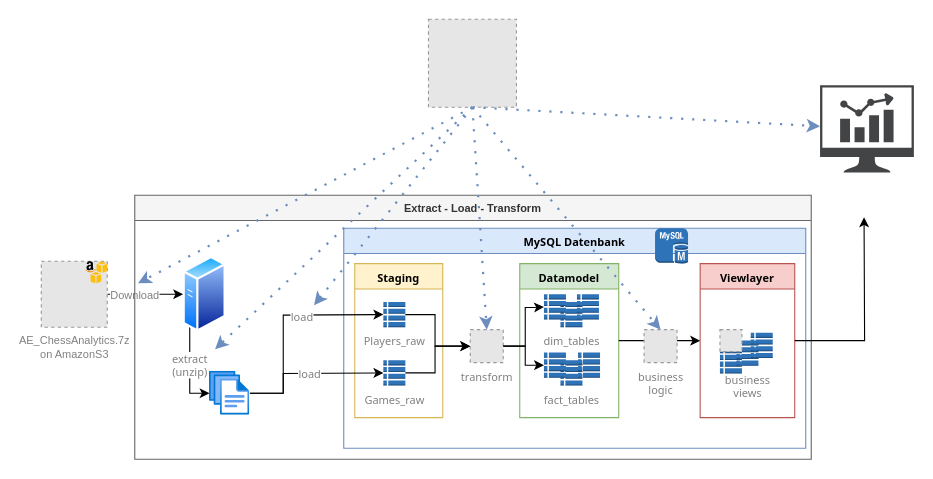
Image size: 933x479. Some labels were removed from this diagram. Grey dashed boxes stand in for pictures. Here are the shapes that lost their labels. From the top down, the centre of each, then its label:
(866,128): Interactive analytics application
(229,393): 200 Players .json 200 Games .pgn
